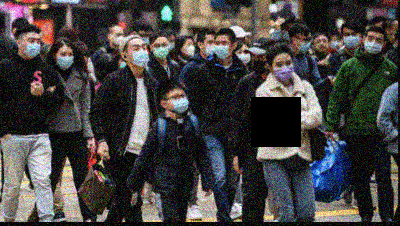with_mask: (128, 42, 150, 66), (272, 57, 294, 79), (167, 91, 189, 112), (21, 35, 42, 56), (250, 54, 269, 74), (366, 33, 383, 54), (215, 38, 232, 58), (343, 28, 360, 48), (57, 49, 74, 68), (153, 39, 169, 58), (296, 34, 312, 52), (236, 47, 251, 63), (204, 37, 216, 54), (138, 30, 152, 44), (112, 30, 124, 44), (183, 40, 195, 54), (330, 37, 339, 49)
without_mask: (314, 37, 329, 50)
